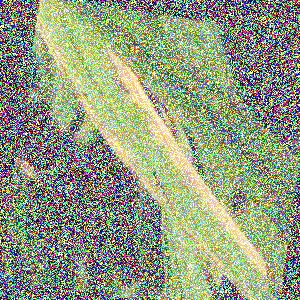Leaf_Blast: (99, 70, 173, 182)
